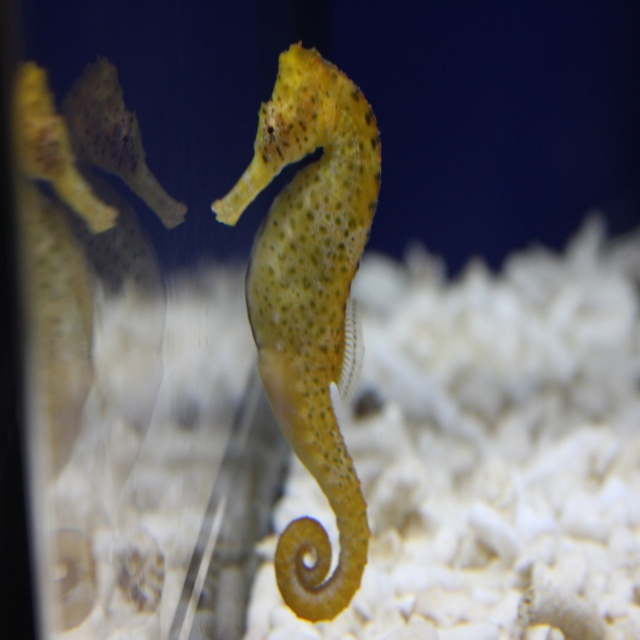Seahorse: (211, 40, 383, 623)
